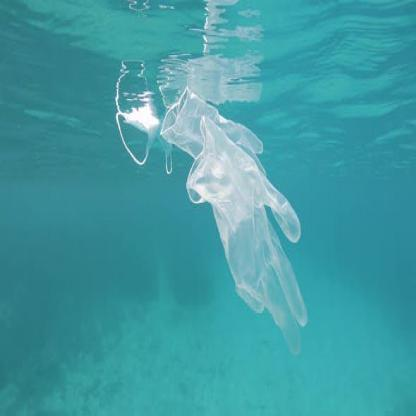Rác: (154, 84, 313, 341)
